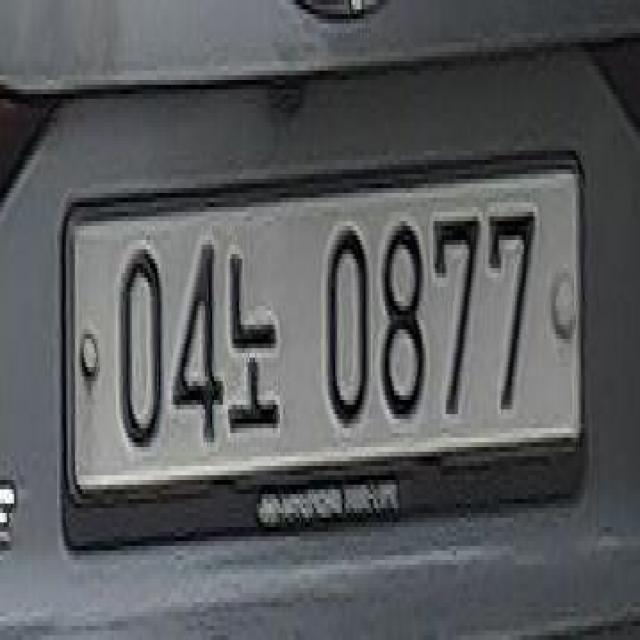illegal_plate: (62, 156, 594, 534)
